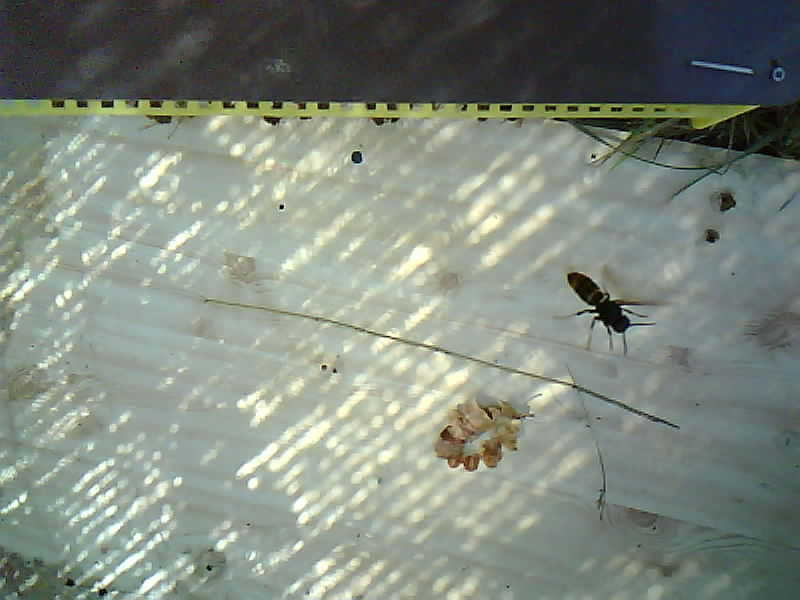hornet: (563, 265, 647, 343)
